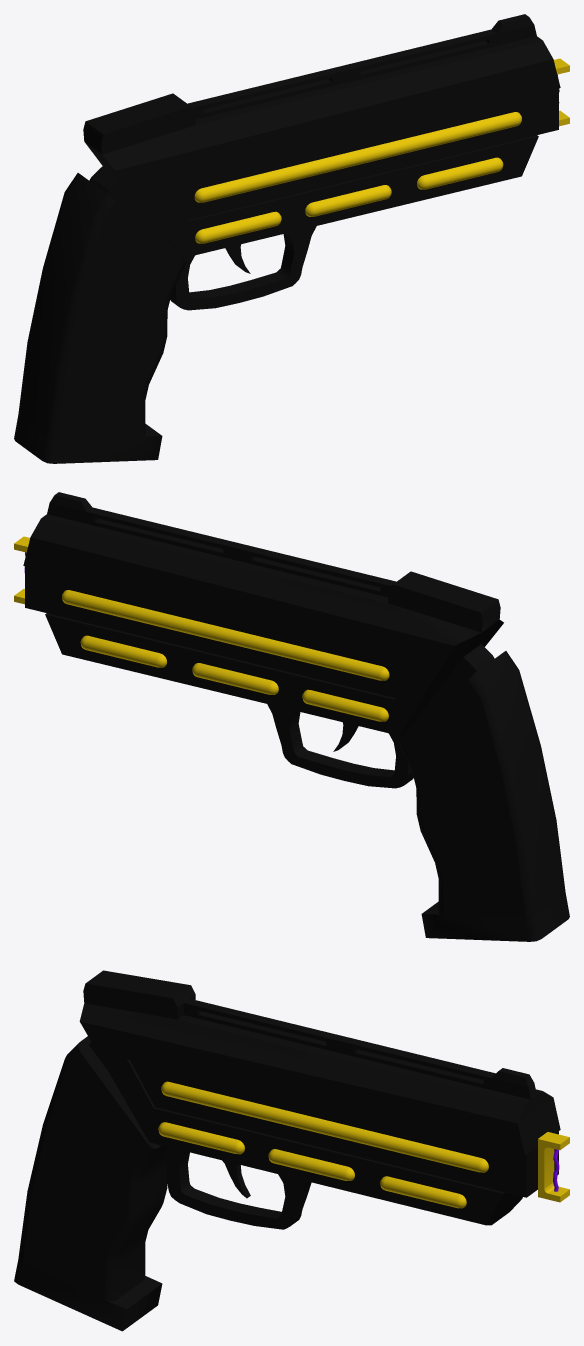
The model's file is stun_gun_1.FBX.
The picture shows the model from 3 angles, top to bottom: view 1: azimuth 30°, elevation 25°; view 2: azimuth 150°, elevation 25°; view 3: azimuth 330°, elevation 25°; orthographic projection.
Visible parts, largest first — view 1: stun_pistol_1; view 2: stun_pistol_1; view 3: stun_pistol_1.
Boxes of the visible parts, bbox=[...] form: stun_pistol_1: bbox=[14, 14, 569, 463]; stun_pistol_1: bbox=[14, 492, 569, 941]; stun_pistol_1: bbox=[14, 970, 569, 1331].
Bounding box in the file's own units: 34.72 × 20.84 × 4.88.
